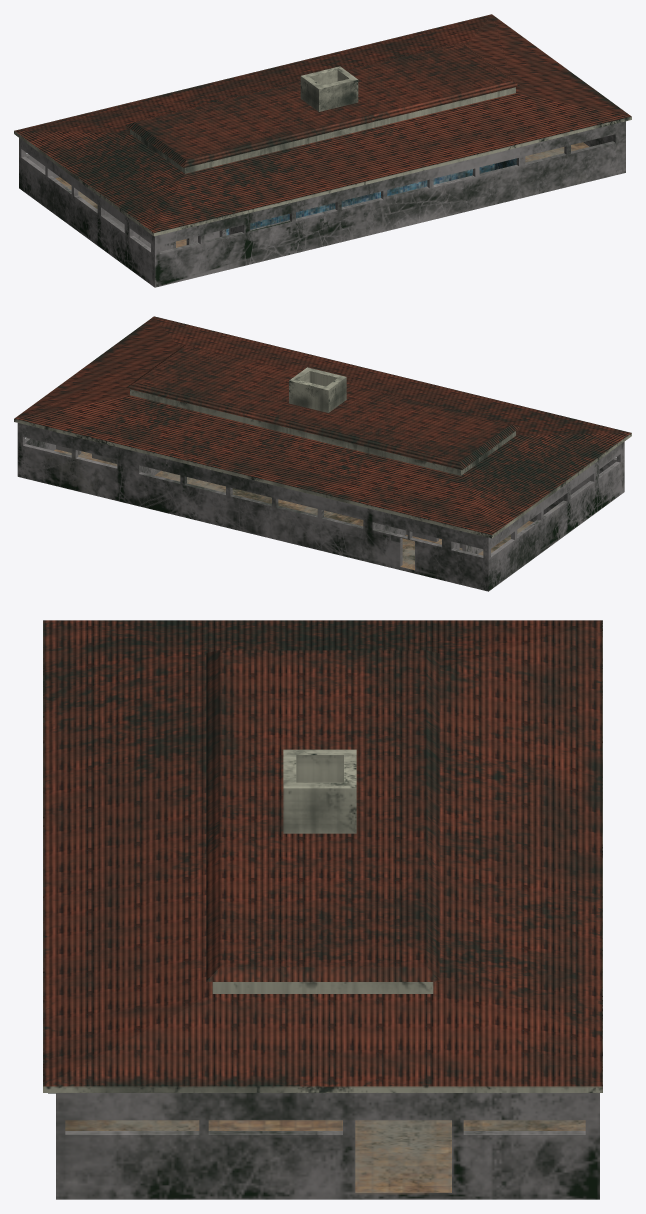
Rendered from casacapingcompleto.fbx.
3 renders of one model, top to bottom at view 1: azimuth 30°, elevation 25°; view 2: azimuth 150°, elevation 25°; view 3: azimuth 270°, elevation 25°, orthographic. The views are drawn at different scales.
Parts seen in each view (by area): view 1: TECHOCASASINUVS, CASAOBJSINUVS; view 2: TECHOCASASINUVS, CASAOBJSINUVS; view 3: TECHOCASASINUVS, CASAOBJSINUVS.
Part boxes in pixels (left/top/right/bottom): TECHOCASASINUVS: left=14, top=14, right=631, bottom=236; CASAOBJSINUVS: left=19, top=121, right=625, bottom=287; TECHOCASASINUVS: left=14, top=316, right=631, bottom=538; CASAOBJSINUVS: left=17, top=423, right=624, bottom=591; TECHOCASASINUVS: left=43, top=620, right=602, bottom=1092; CASAOBJSINUVS: left=48, top=1093, right=599, bottom=1199.
Bounding box in the file's own units: 3455 × 710 × 1750.
